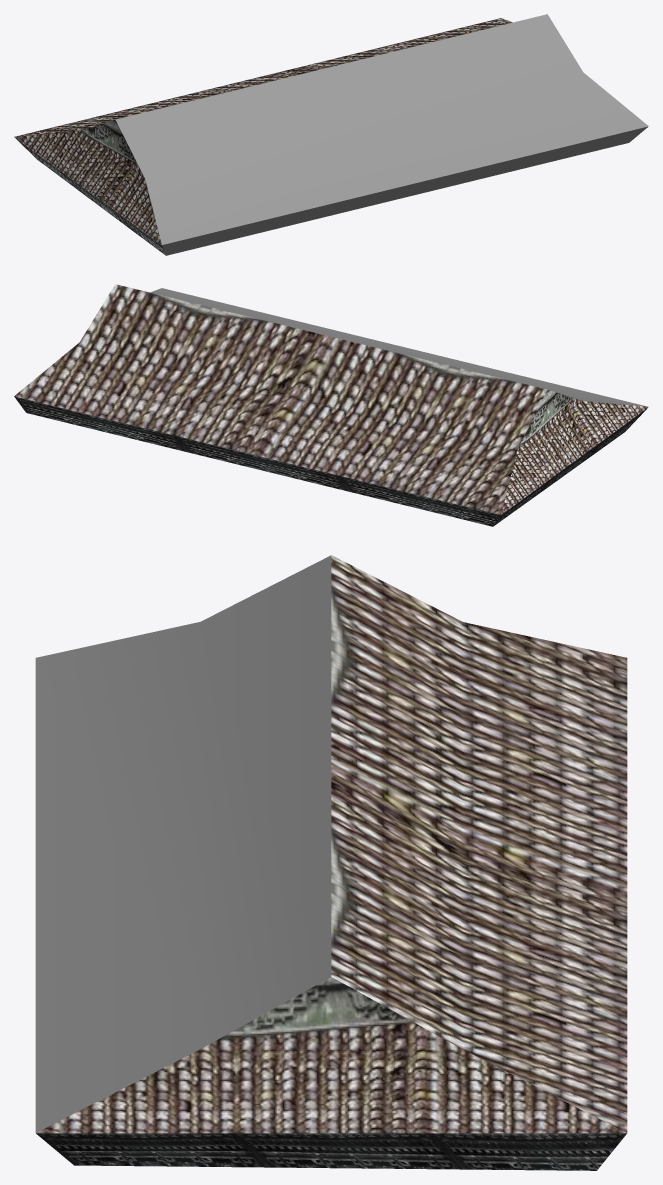
3 renders of one model, top to bottom at view 1: azimuth 30°, elevation 25°; view 2: azimuth 150°, elevation 25°; view 3: azimuth 270°, elevation 25°, orthographic. The views are drawn at different scales.
Visible parts, largest first — view 1: Box120; view 2: Box120; view 3: Box120.
Boxes of the visible parts, x1=… form: Box120: x1=14, y1=14, x2=648, y2=255; Box120: x1=14, y1=284, x2=648, y2=526; Box120: x1=35, y1=555, x2=627, y2=1170.
Size of the model in its own units: 550 by 92.61 by 289.
